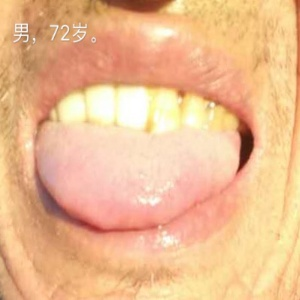st: (39, 121, 246, 234)
